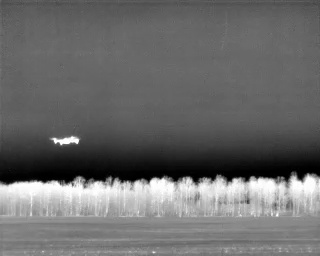DRONE: (47, 130, 84, 151)
